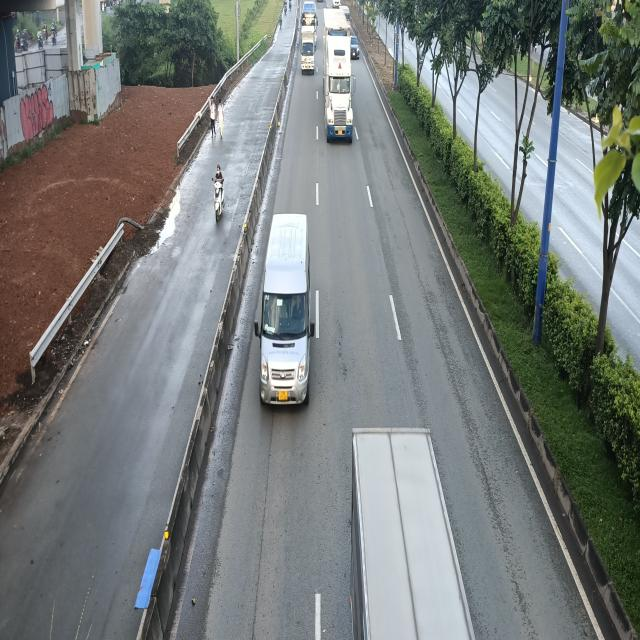car: (350, 35, 361, 60)
container: (322, 8, 357, 146)
truck: (300, 23, 318, 74)
van: (255, 213, 318, 403)
